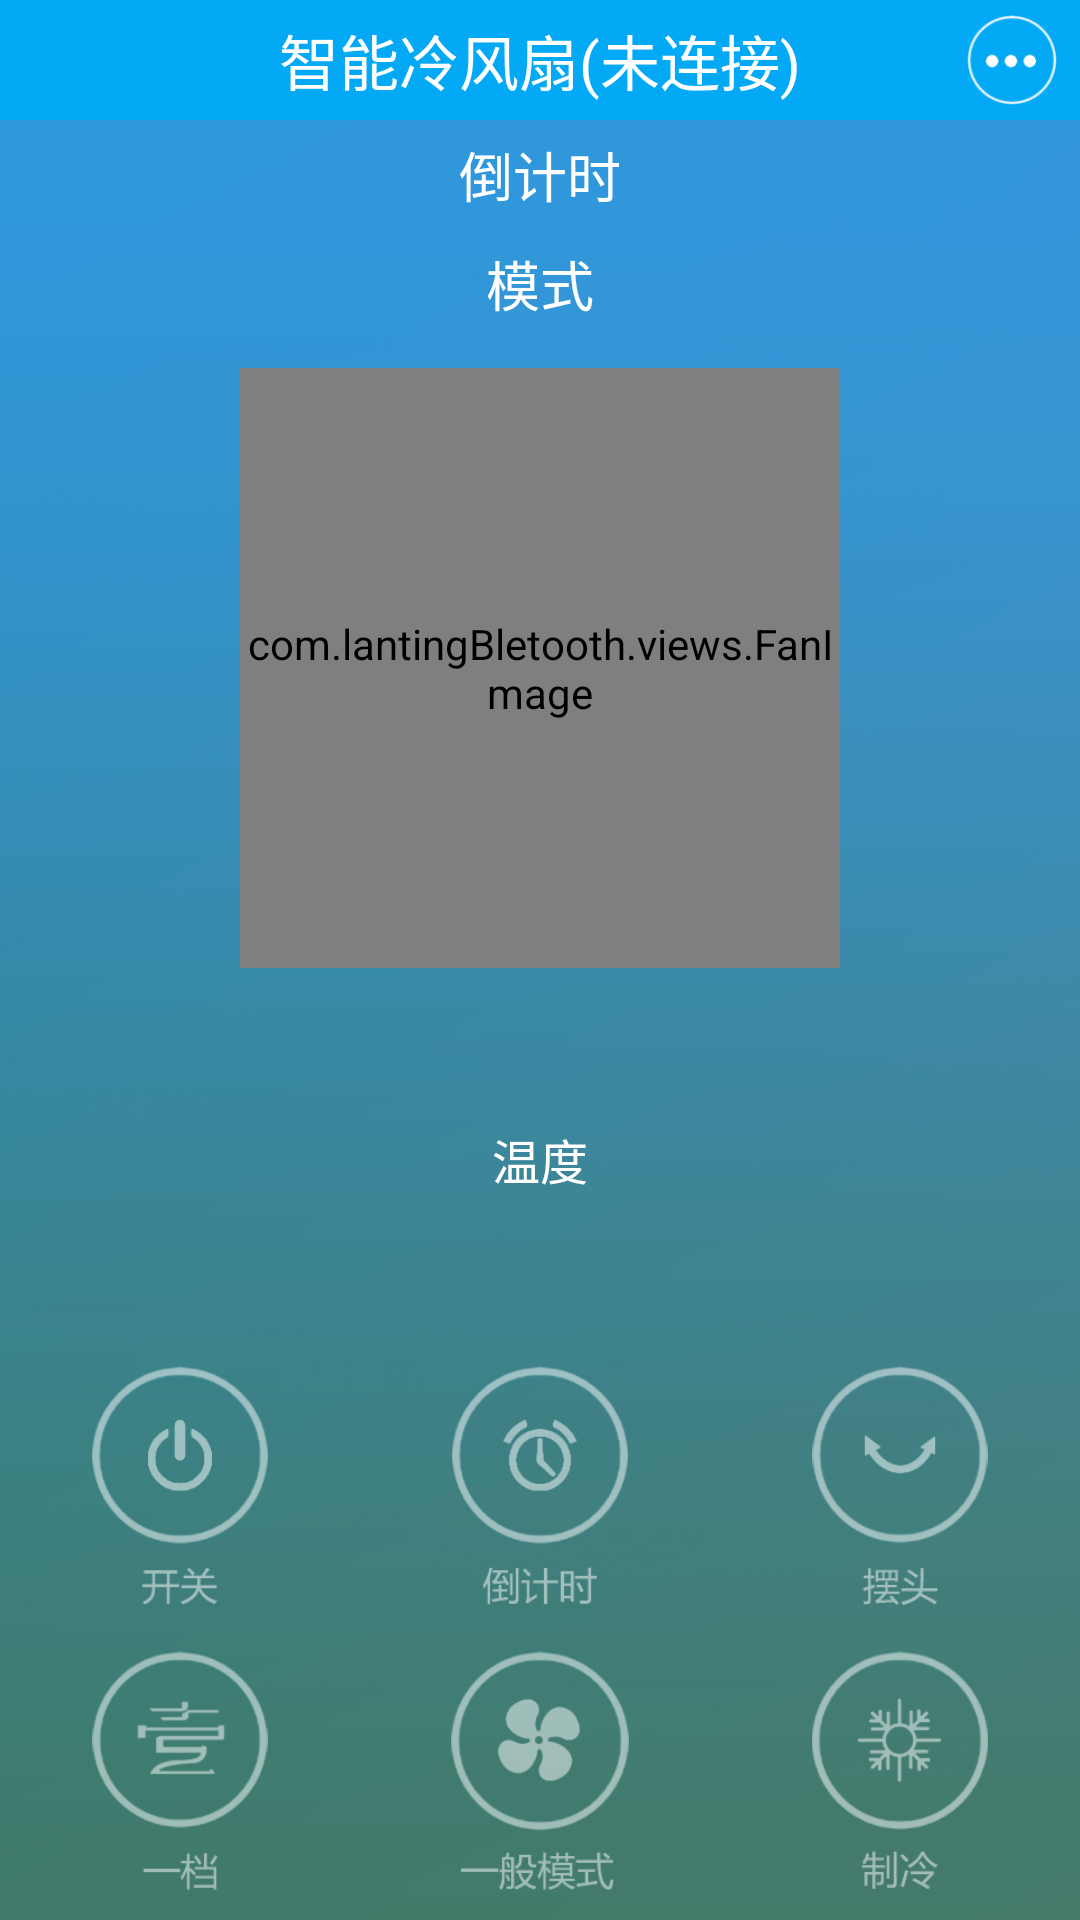

Locate icon controls on the screen. Image size 1080px×1920px, boxes as (x1, y1, x2, y2).
setimg: (967, 15, 1057, 105)
